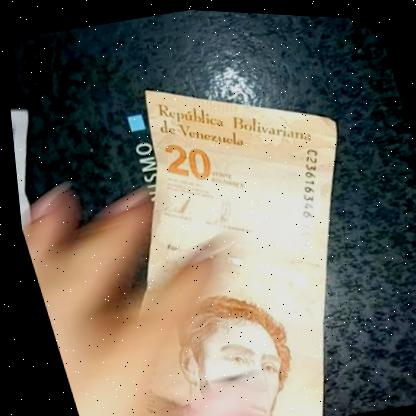ten-back-vef: (7, 97, 79, 308)
twenty-front-vef: (71, 47, 416, 416)
